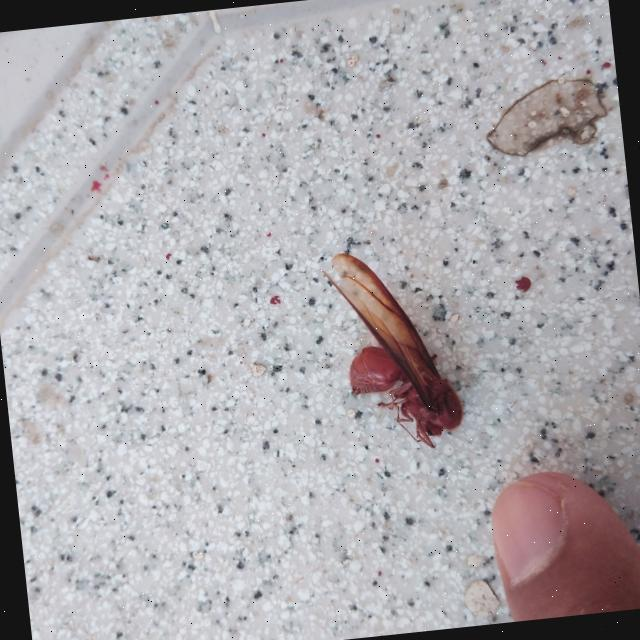Dead-Male-Alate: (320, 236, 465, 458)
